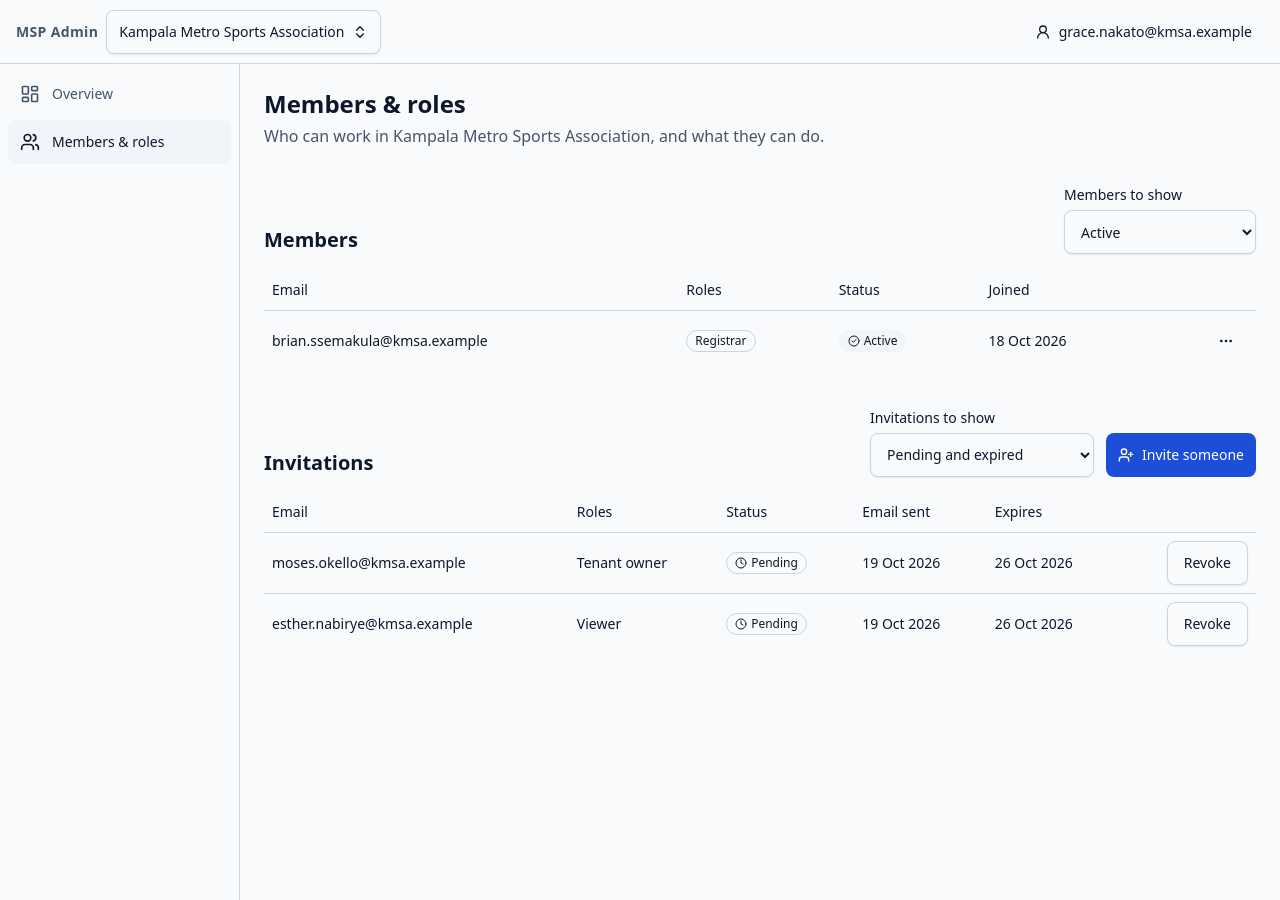
Scenario: members & roles › asks for a reason before suspending, then sends it with the member's version
The image size is (1280, 900).
Expected: the text "brian.ssemakula@kmsa.example" is shown, top-left (272, 330), bottom-right (488, 350)
Press the mouse on the button named "Change brian.ssemakula@kmsa.example" at (1226, 340), box top-left (1204, 318), bottom-right (1248, 362)
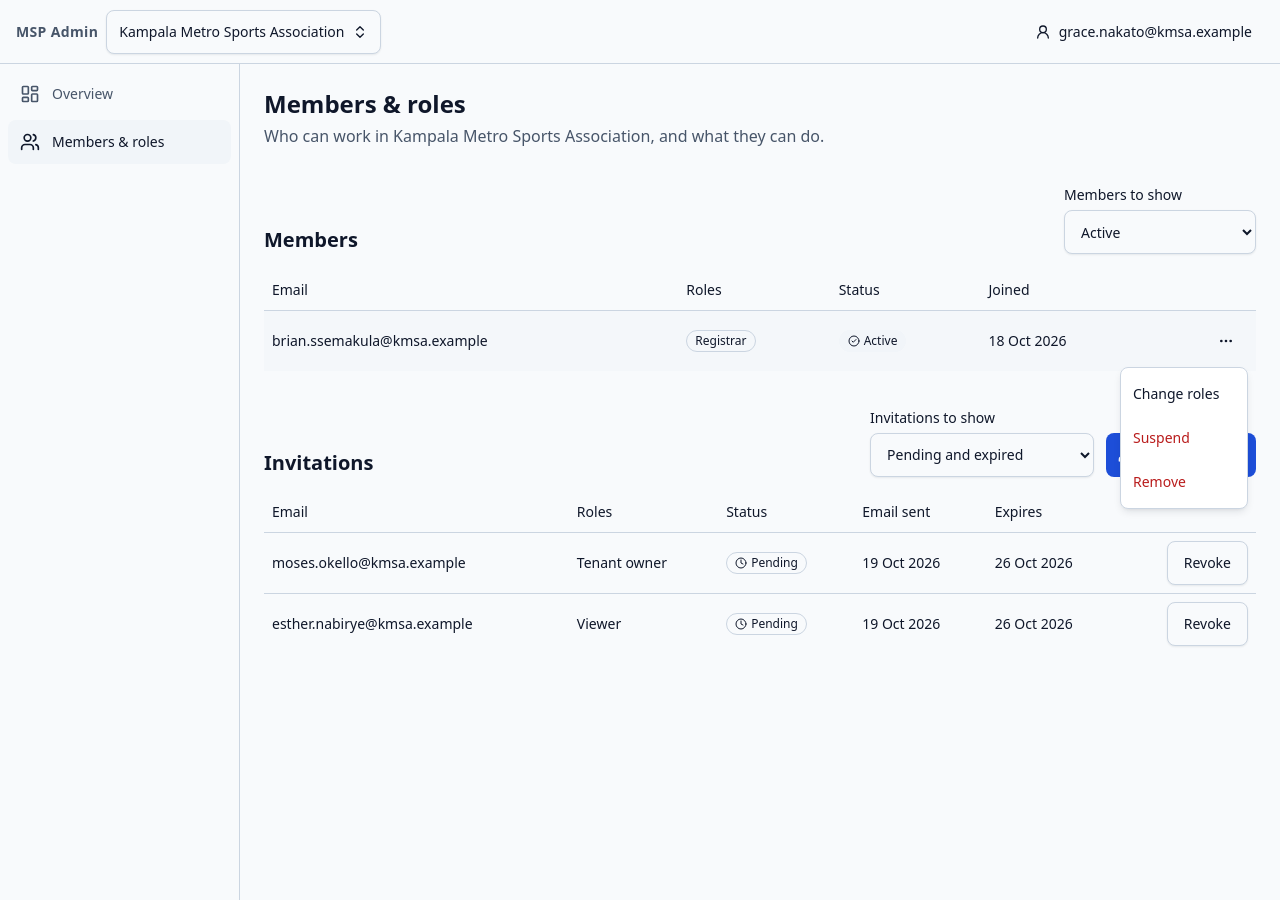
Expected: the menu item "Restore" is not shown
Click the menu item "Suspend" at (1161, 438), box top-left (1133, 428), bottom-right (1190, 447)
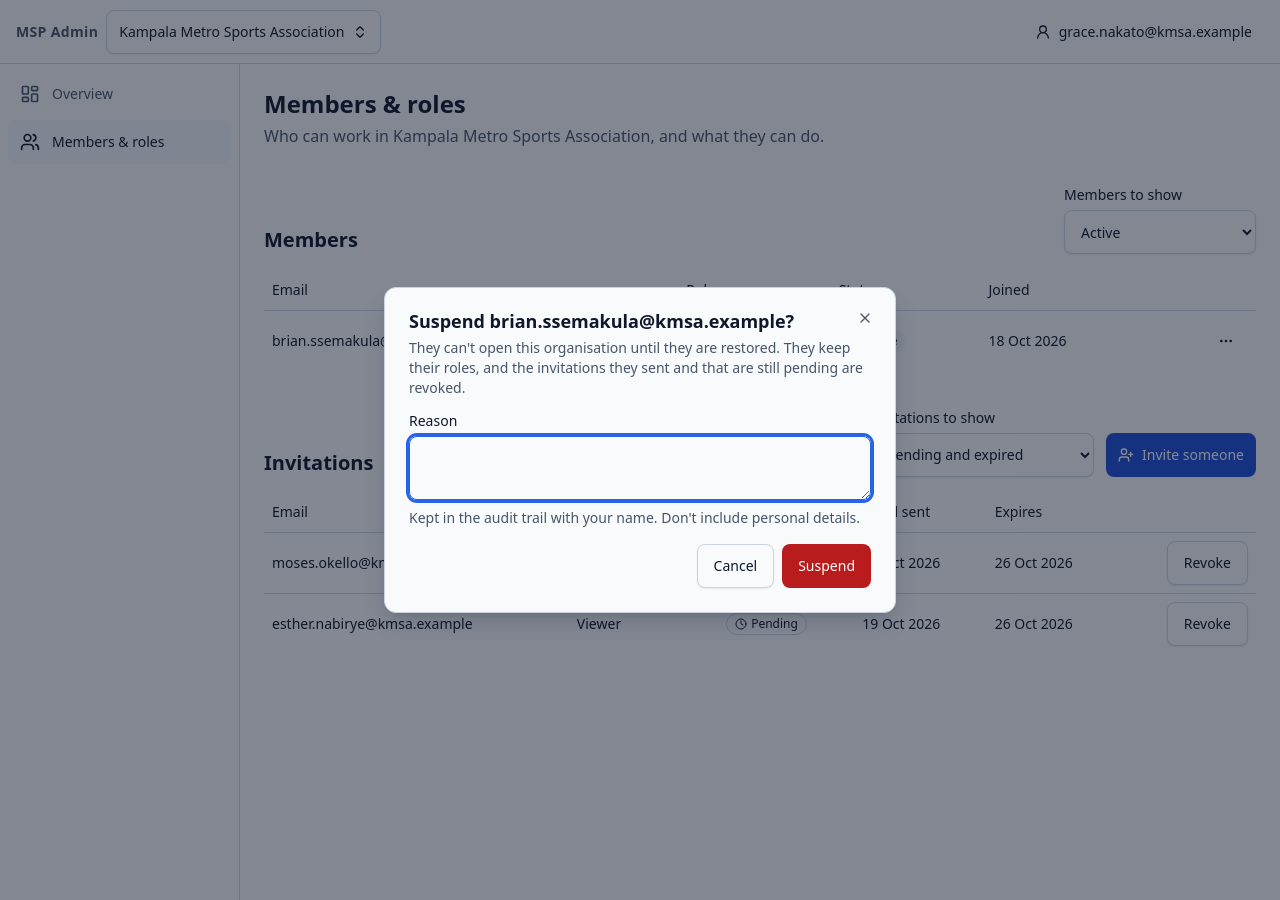
Click the button "Suspend" at (827, 566), box top-left (782, 544), bottom-right (871, 588)
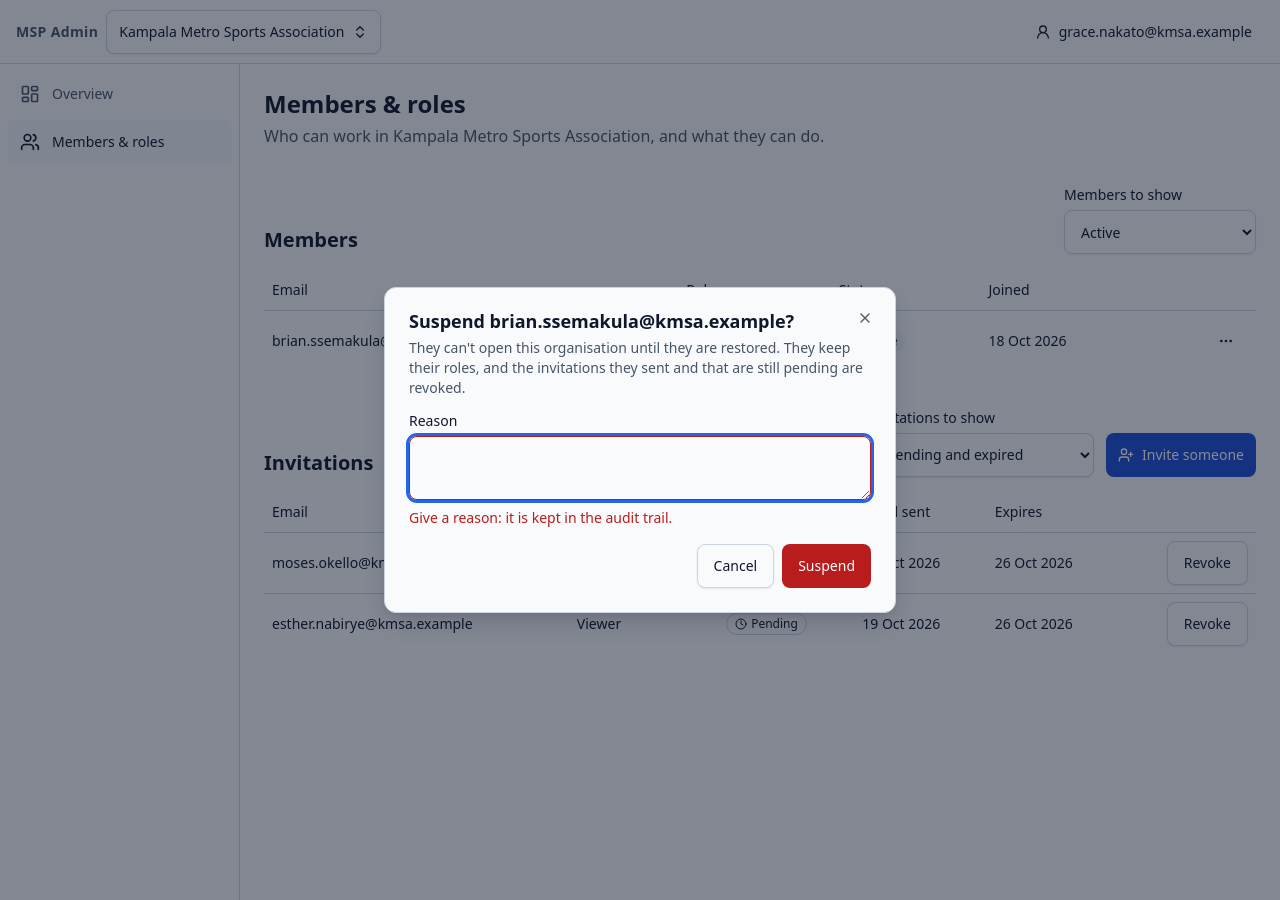
Expected: the text "Give a reason: it is kept in the audit trail." is shown, top-left (409, 508), bottom-right (672, 527)
Type "  Left the association  " into the text box labelled "Reason" at (640, 468), box top-left (409, 436), bottom-right (871, 500)
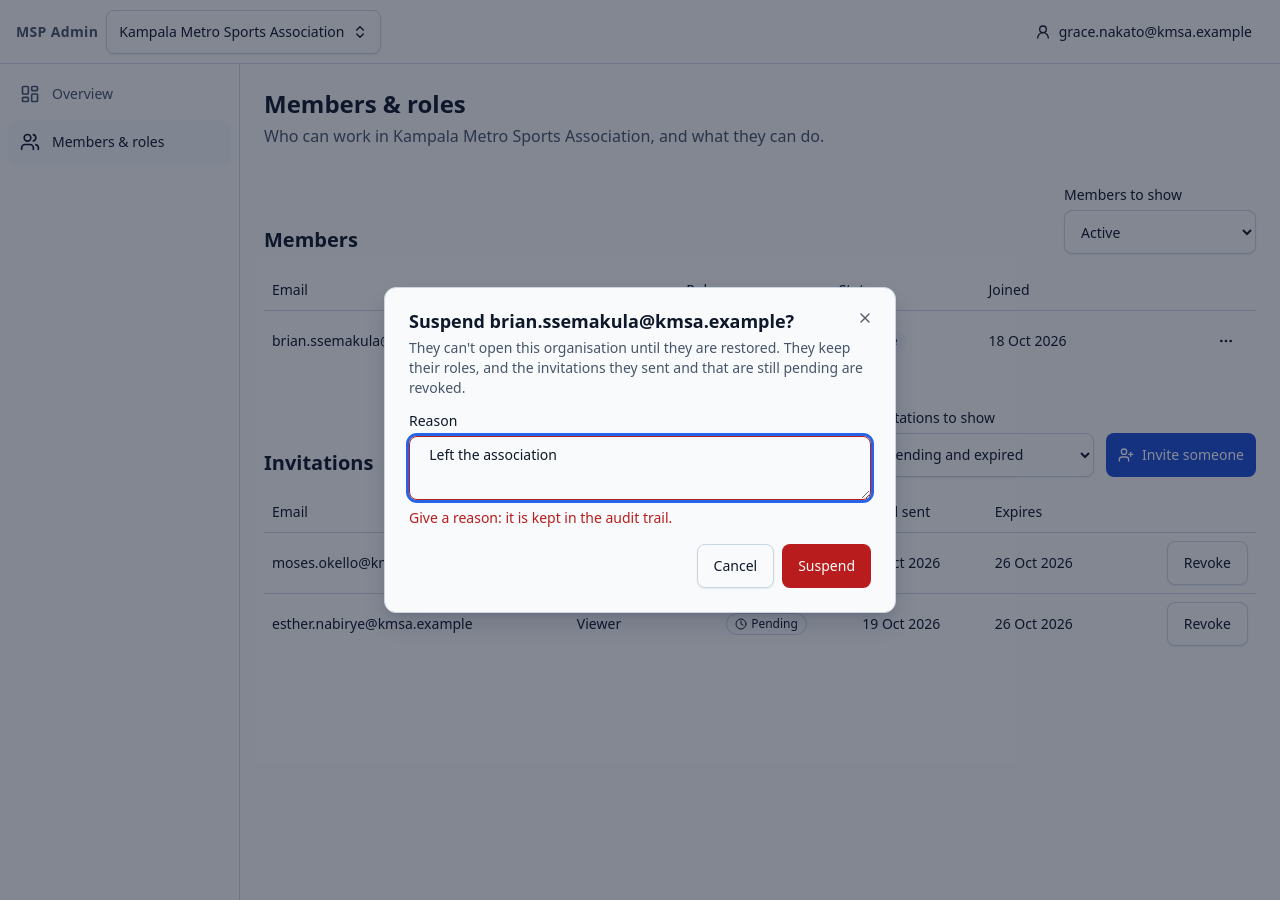
Click the button "Suspend" at (827, 566), box top-left (782, 544), bottom-right (871, 588)
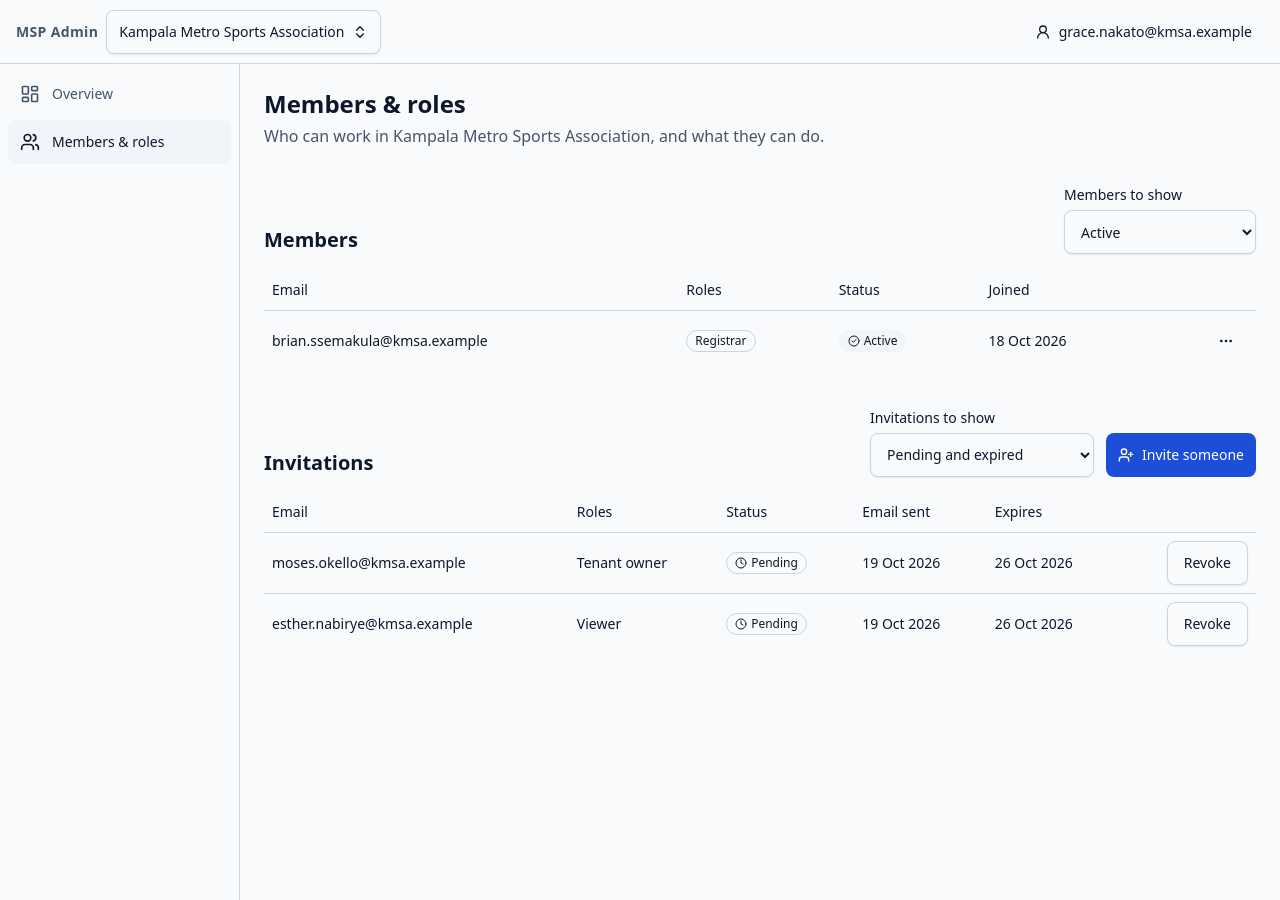
Expected: the dialog is gone
